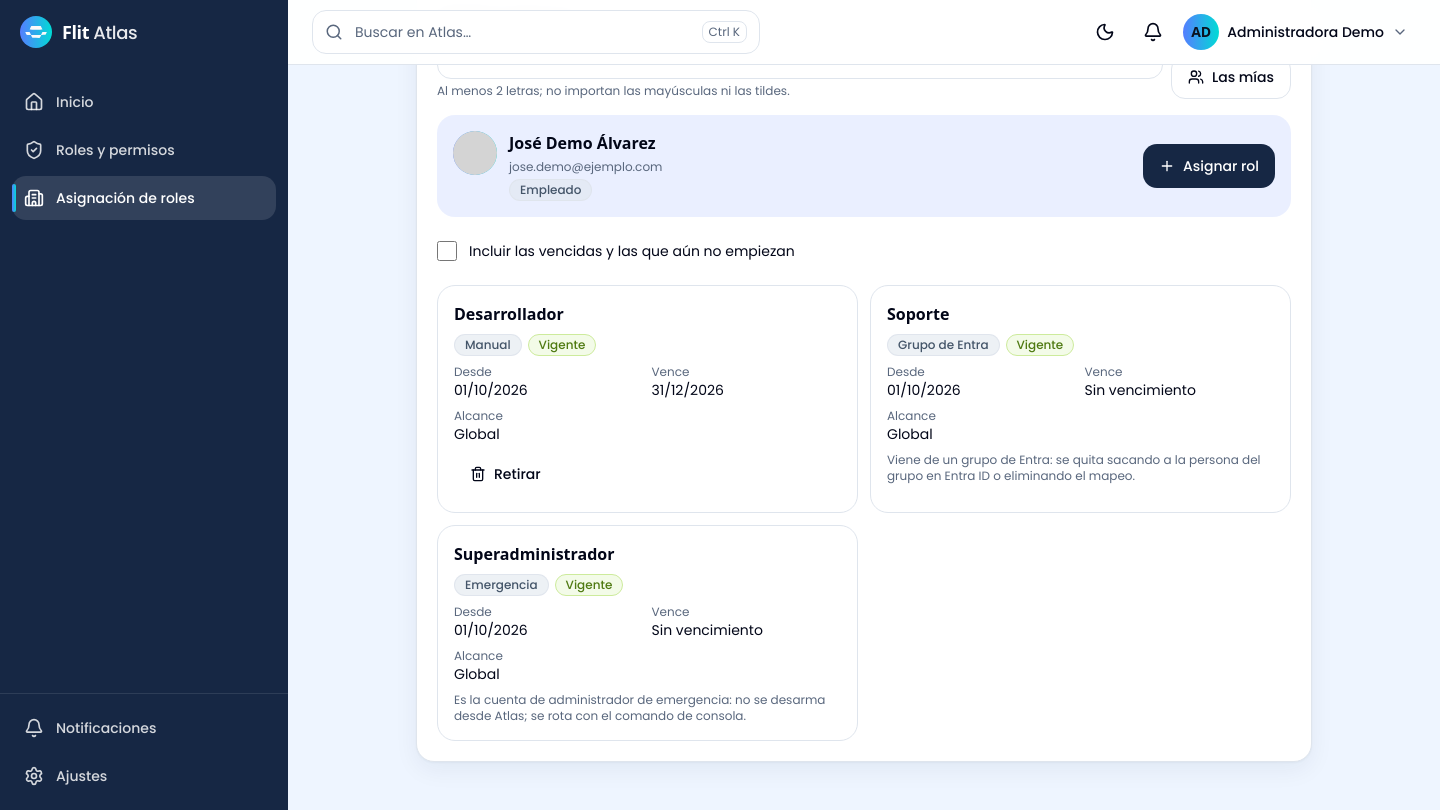
Scenario: pantalla de asignación de roles › muestra las asignaciones de la persona con origen y vigencia, y retira solo las manuales
(page scrolled)
Expected: the list item that starts with "Desarrollador" shows "Manual", [465,336,511,353]
Expected: the list item that starts with "Desarrollador" shows "31/12/2026", [652,380,724,400]
Step 1. Click the button with aria-label "Retirar Desarrollador" → (505, 474), box [454,452,557,496]
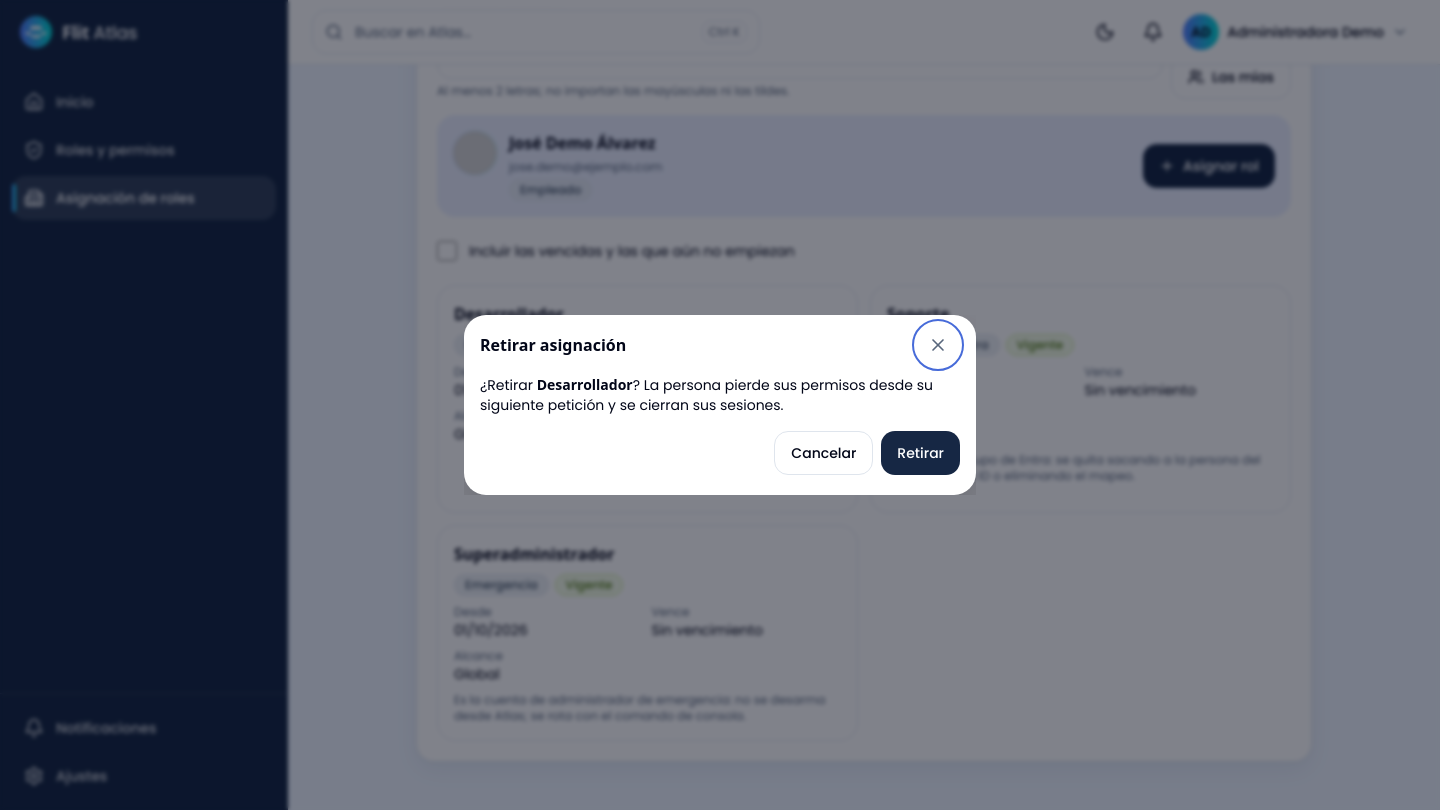
Step 2. Click the button "Retirar" → (921, 453), box [881,431,960,475]
(page scrolled)
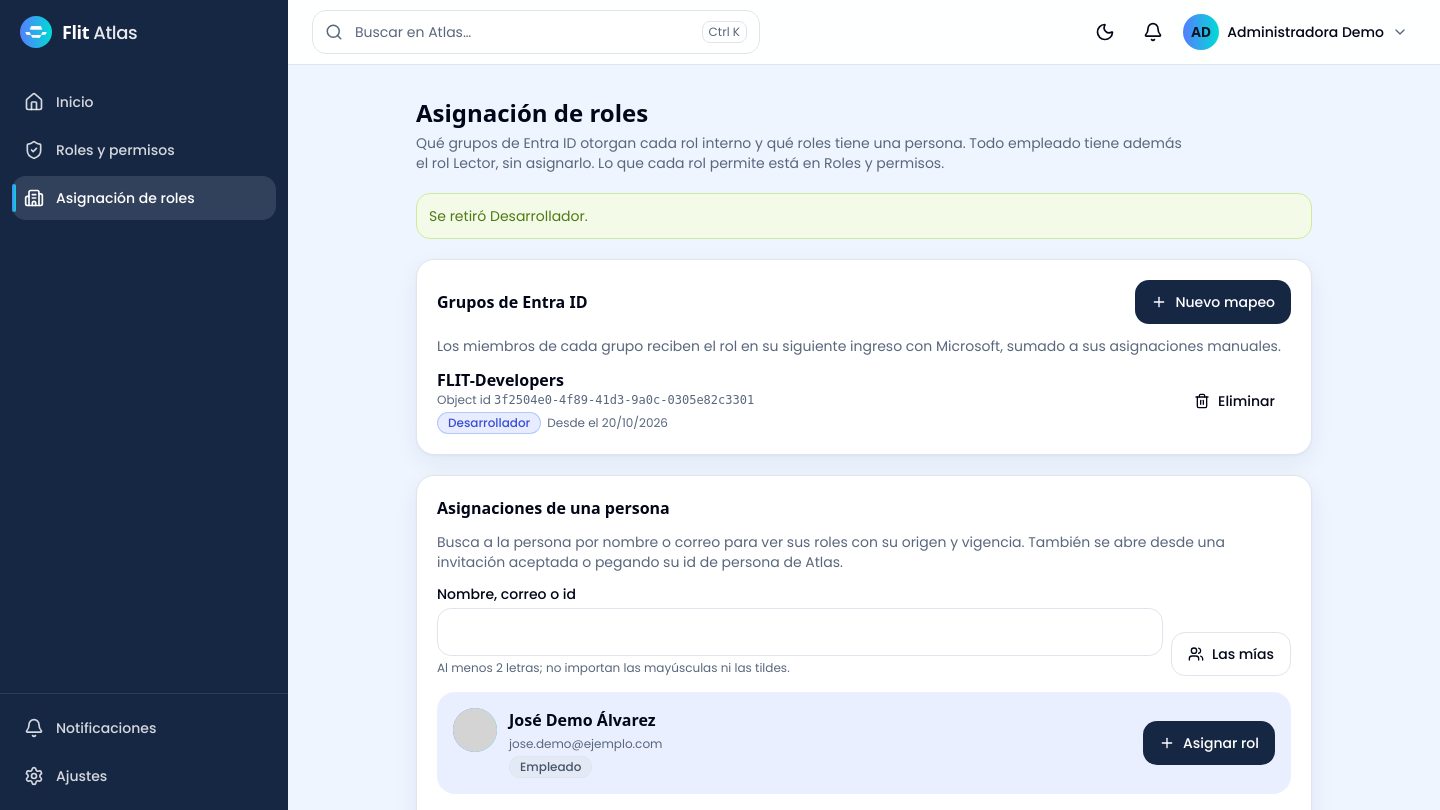
Result: the message reads "Se retiró Desarrollador." at [429,206,588,226]
